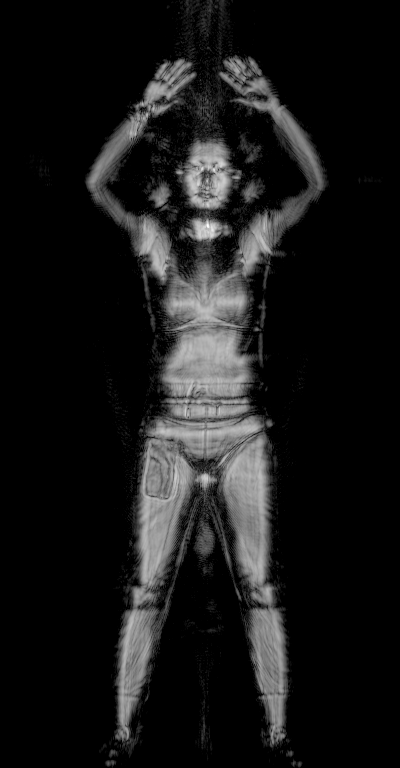head: (172, 140, 244, 216)
others: (141, 434, 179, 502), (130, 97, 156, 139)
person: (83, 53, 327, 768)
